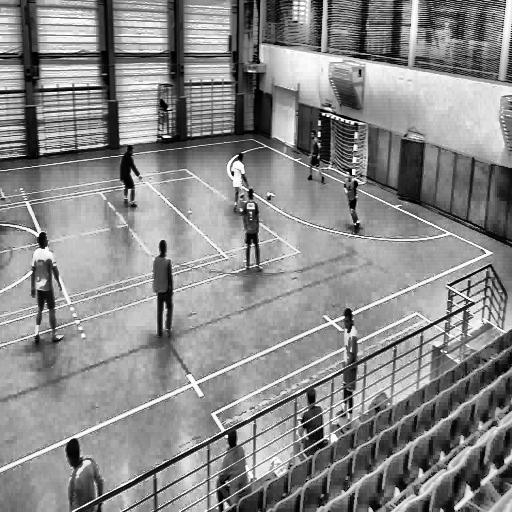ball: (266, 188, 273, 204)
player: (30, 232, 66, 350), (153, 239, 175, 341), (340, 302, 358, 422), (242, 189, 264, 276), (118, 144, 143, 212), (344, 168, 362, 238), (230, 150, 246, 218), (307, 131, 326, 188)
